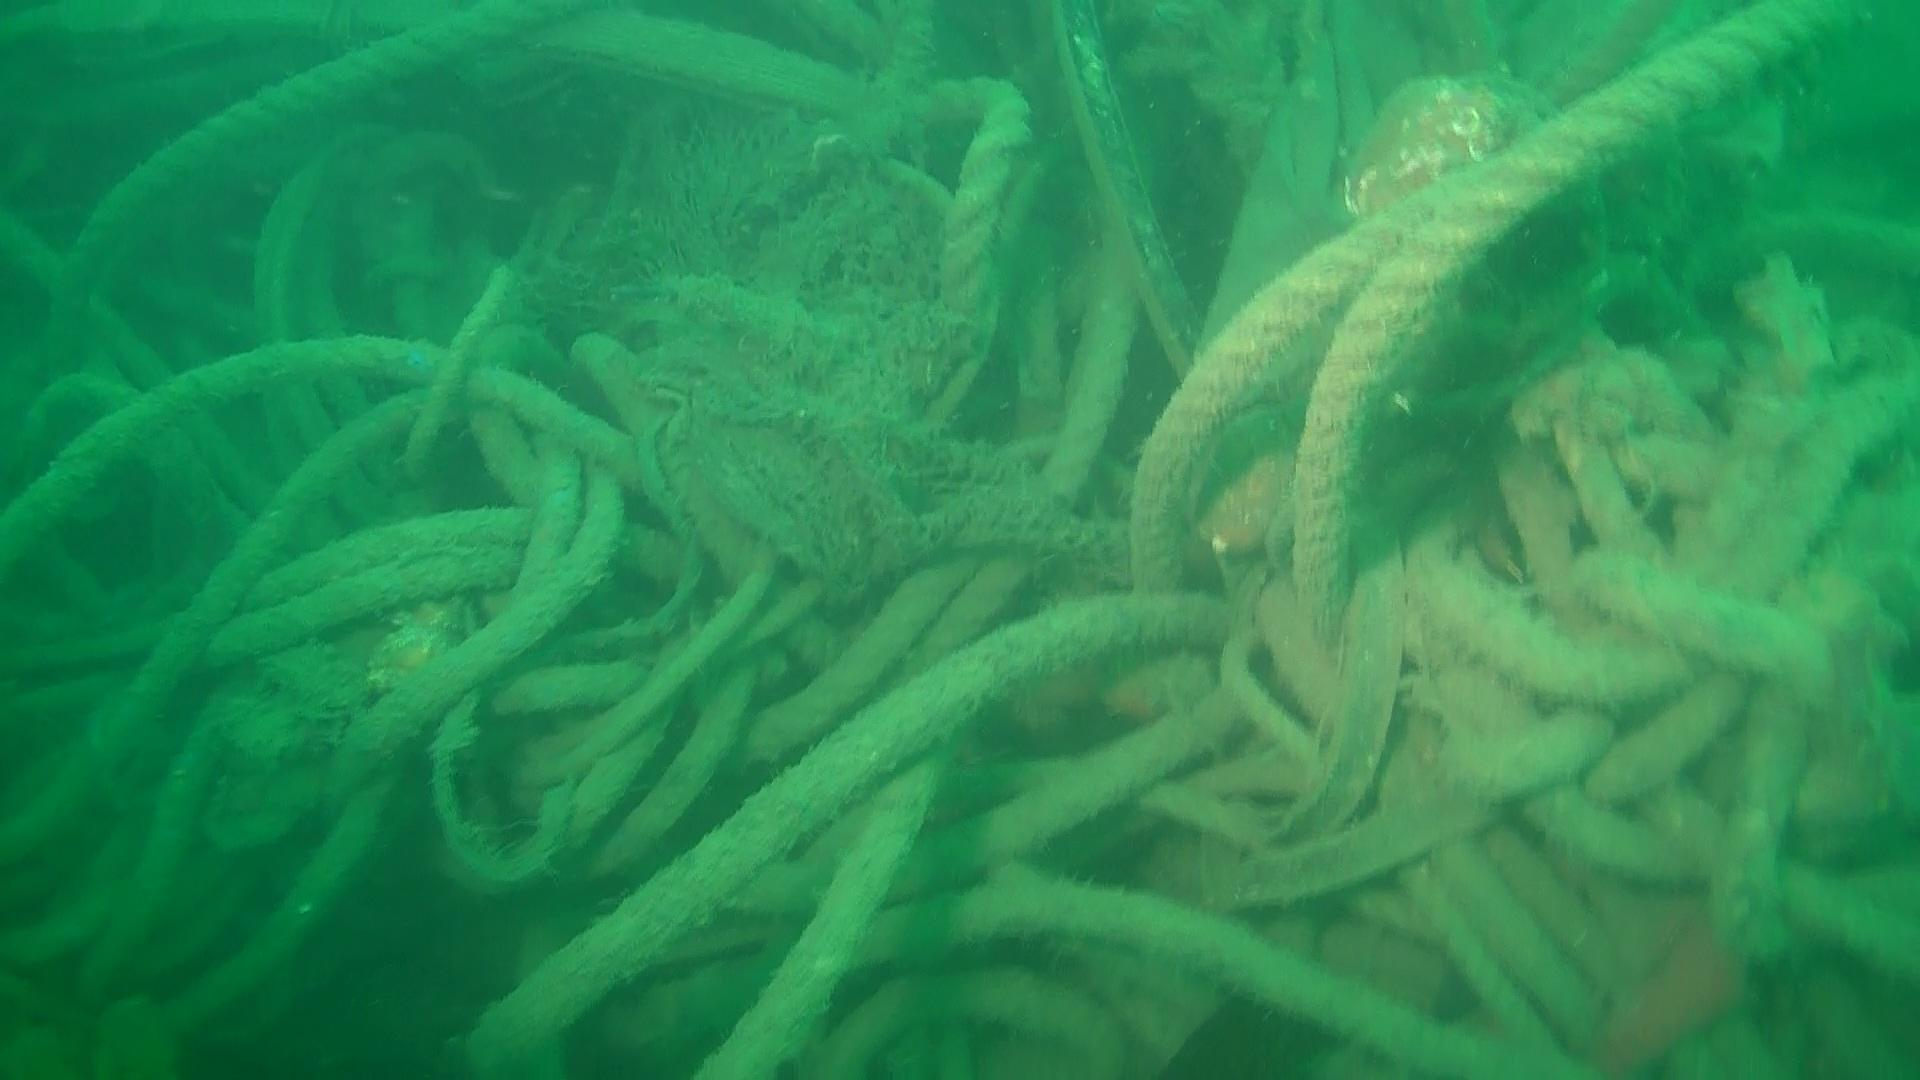bundle of ropes: (0, 3, 1920, 1080)
